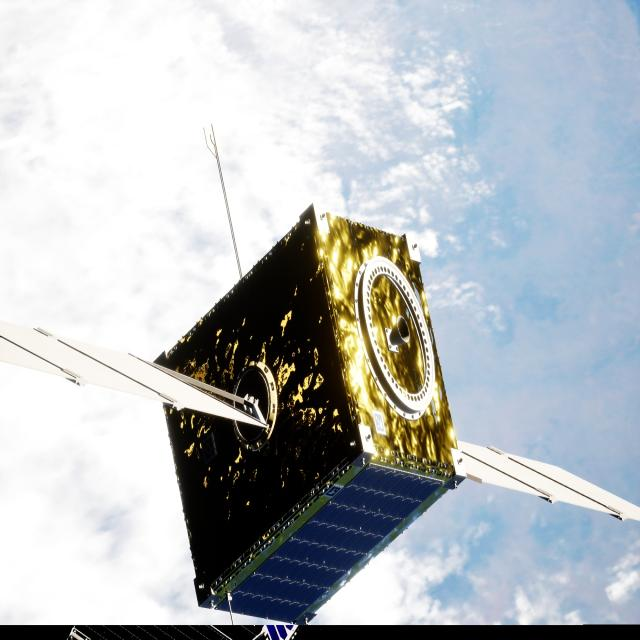medium_debris: (0, 206, 640, 629)
